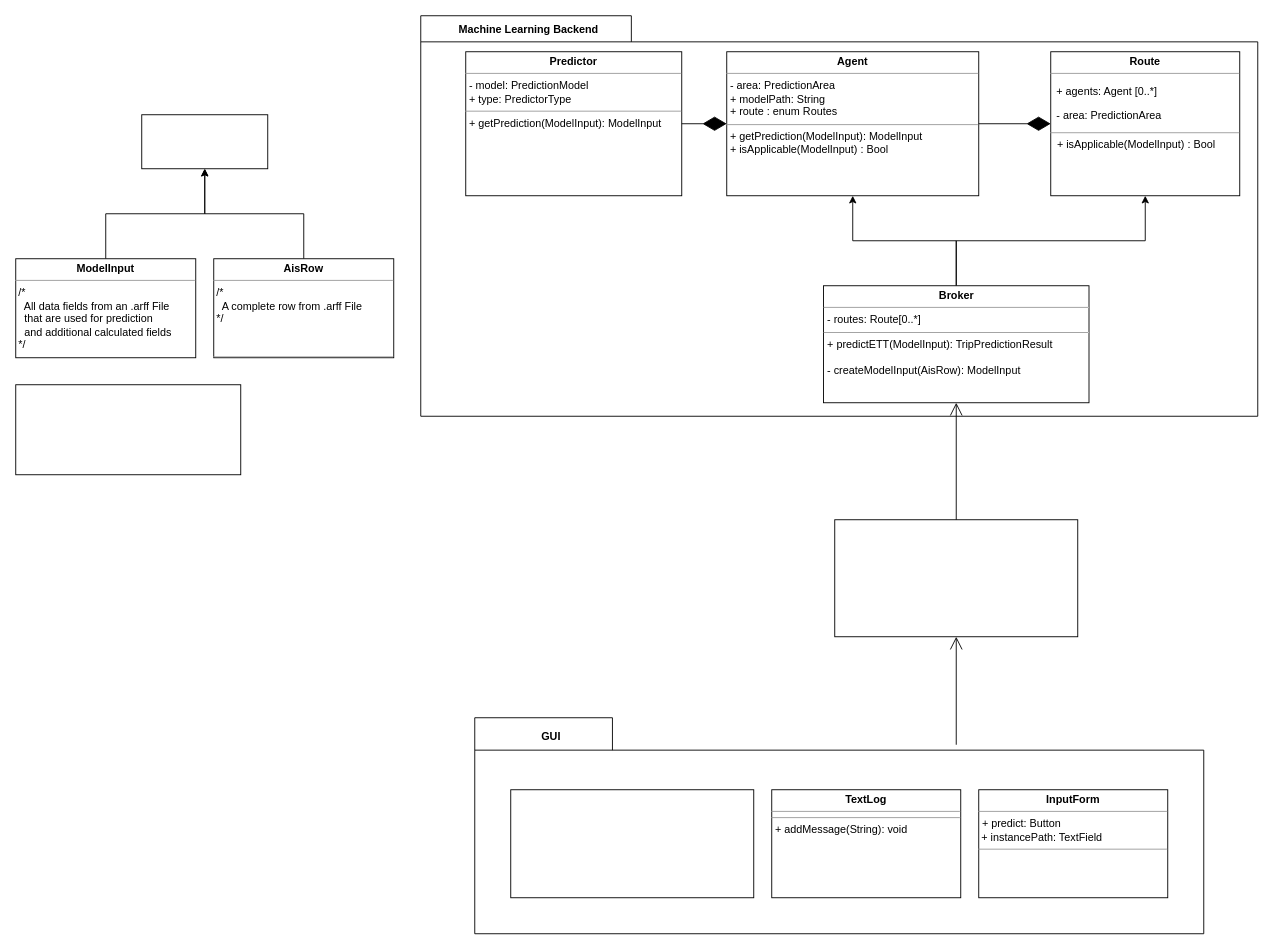
This 1274x950 diagram has some shape labels left out. The shapes that lost their labels are listed below. From the top down, each one's centre as x and y in pixels, then its label:
the point at 204,141: weka.Instance
the point at 128,429: TripPredictionResult + intermediateSteps: ModelInput[1..*] + ETT: double
the point at 956,578: BrokerController + predictETT(AisRow): TripPredictionResult
the point at 632,843: MapView - area: Area - datapoints: MapItem[0..*] + addMapItem(MapItem): void
